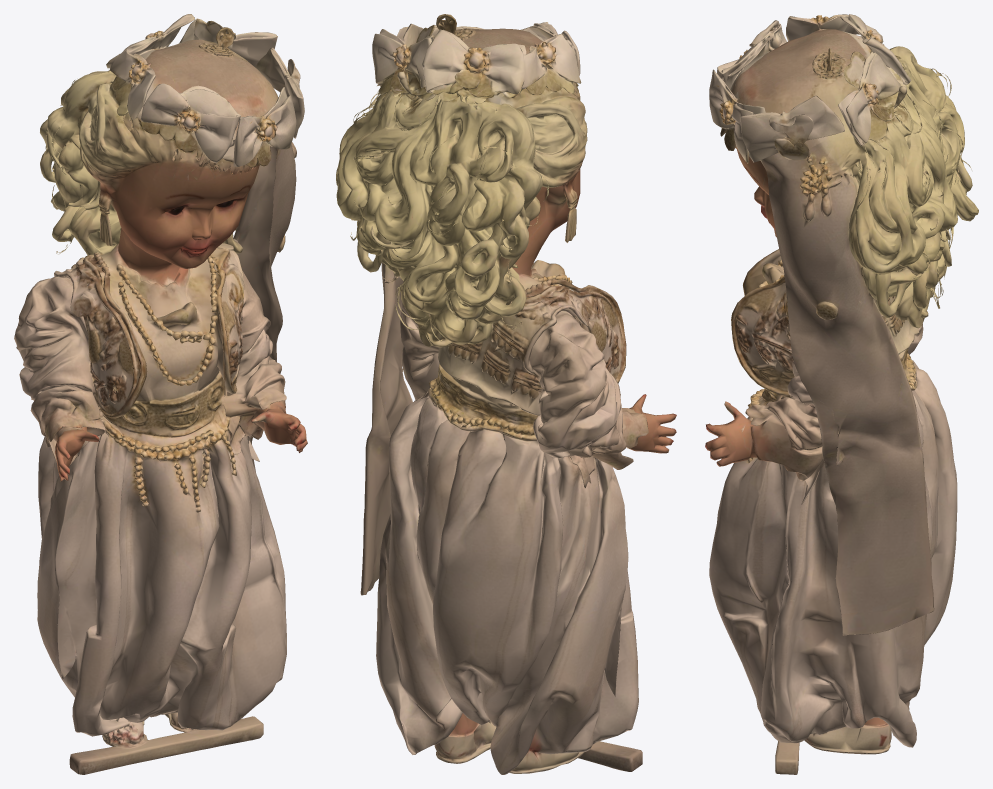
The model's file is lutka.glb.
The picture shows the model from 3 angles, left to right: view 1: azimuth 30°, elevation 25°; view 2: azimuth 150°, elevation 25°; view 3: azimuth 270°, elevation 25°; orthographic projection. The views are drawn at different scales.
Bounding box in the file's own units: 0.7867 × 1.9 × 0.6519.
1 material, 1 textured.
